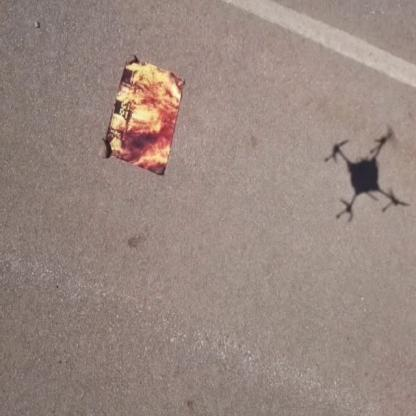fire-poster: (103, 54, 186, 178)
